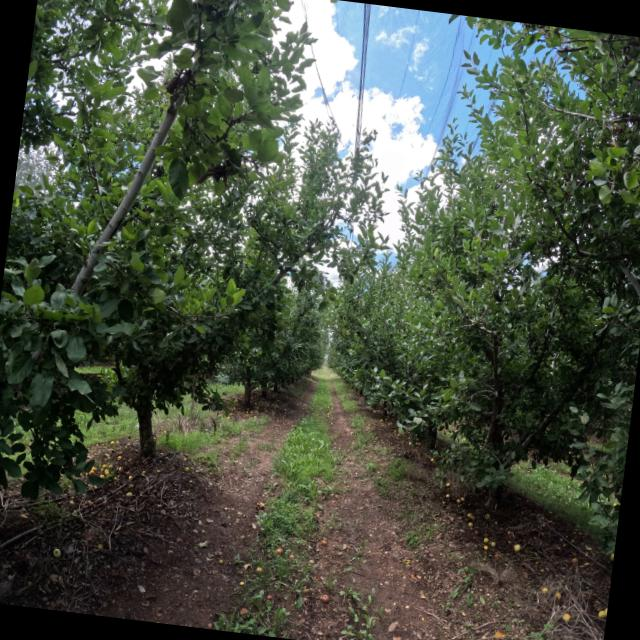-FireBlight-: (163, 68, 194, 112), (196, 166, 231, 186), (610, 125, 624, 135), (611, 138, 619, 147)
